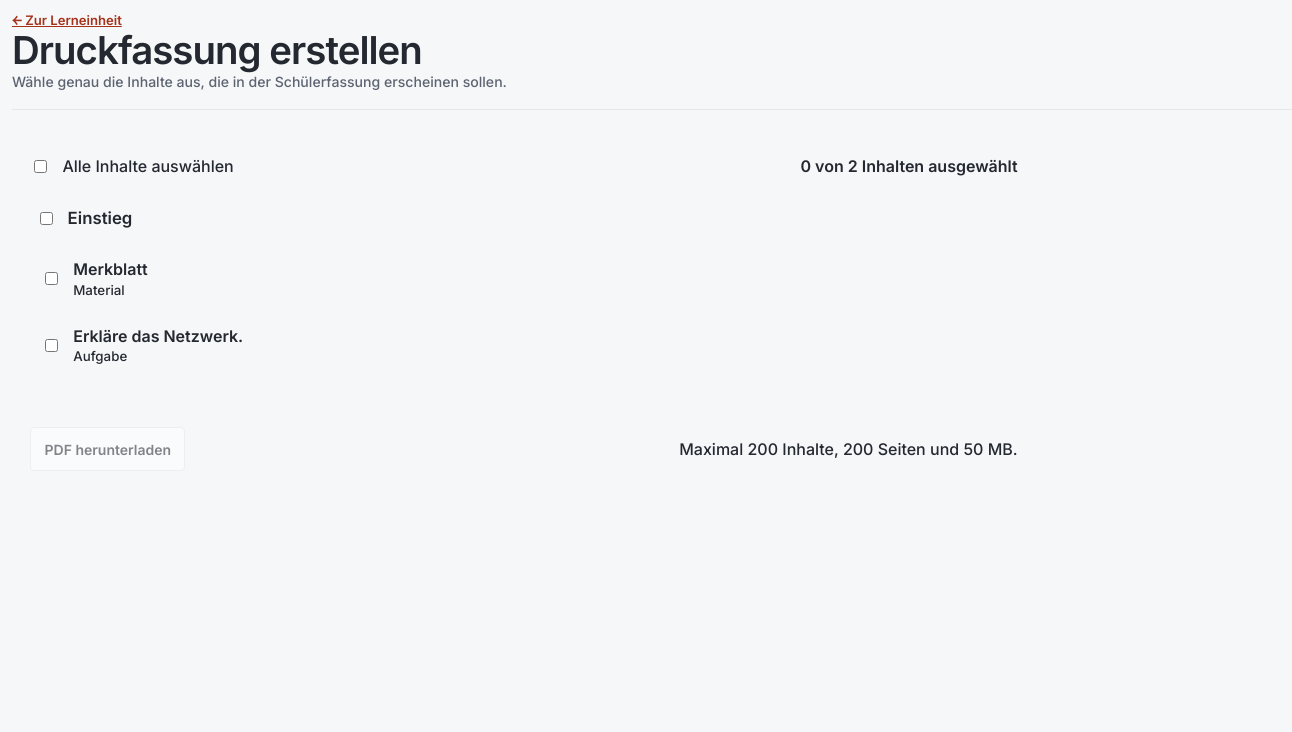
teacher printable-unit page › shows a material-specific export error without leaving the selection page
Click the checkbox labelled "Merkblatt": (52, 279) [45,272,58,285]
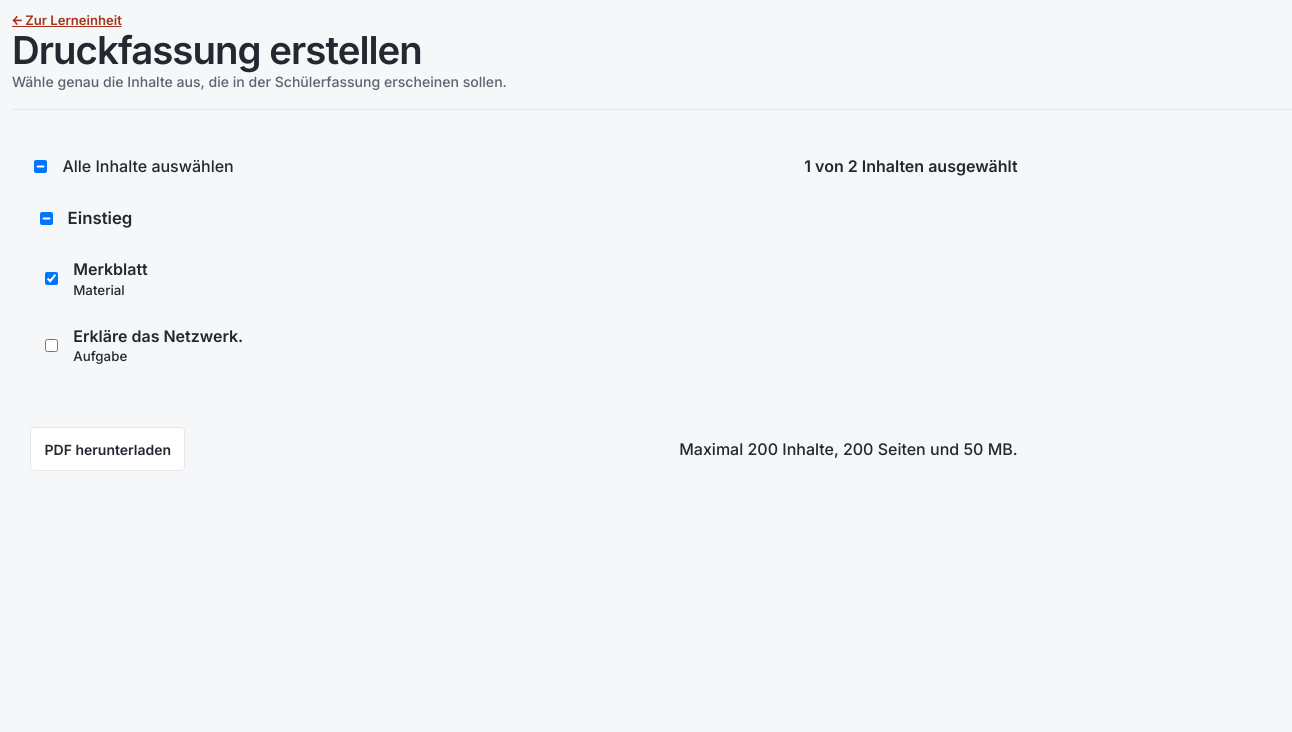
Submit the form named "Inhalte für die Druckfassung auswählen", box [12,140,1036,491]
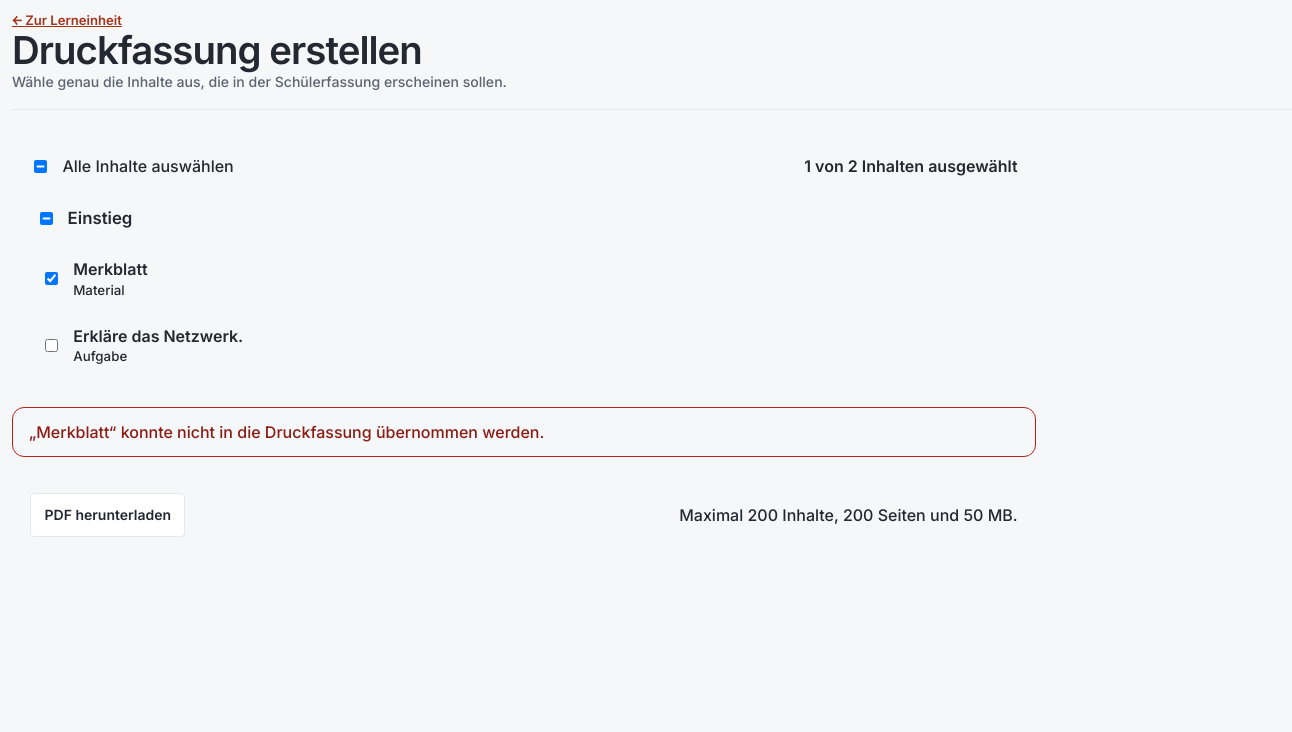
Expected: the button "PDF herunterladen" is enabled, [30,493,185,537]
Expected: the message shows "Merkblatt", [29,422,544,442]
